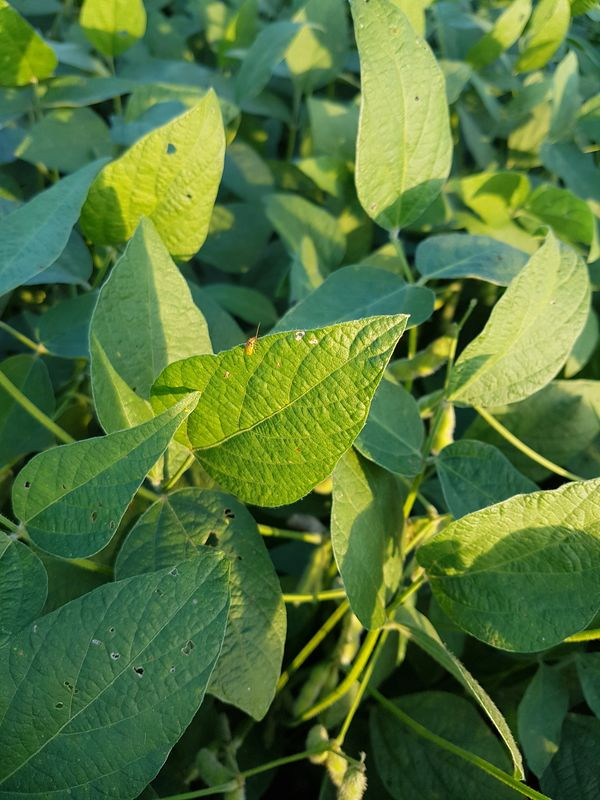Diabrotica_speciosa: (240, 326, 262, 358)
